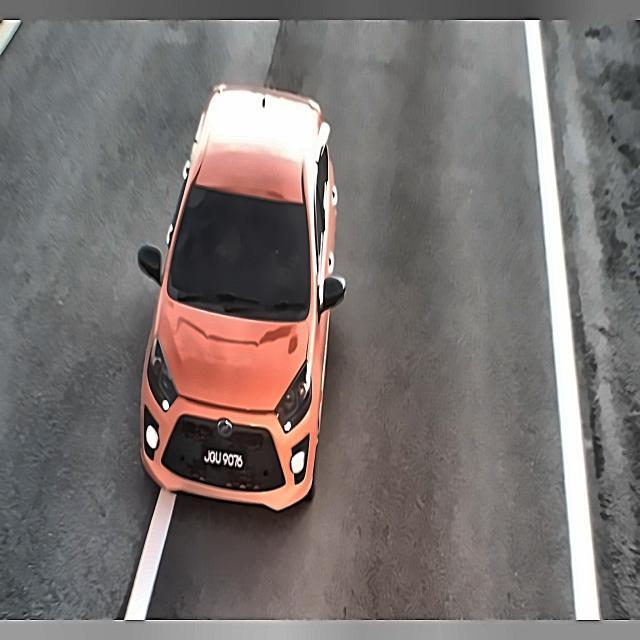car: (197, 439, 249, 485)
